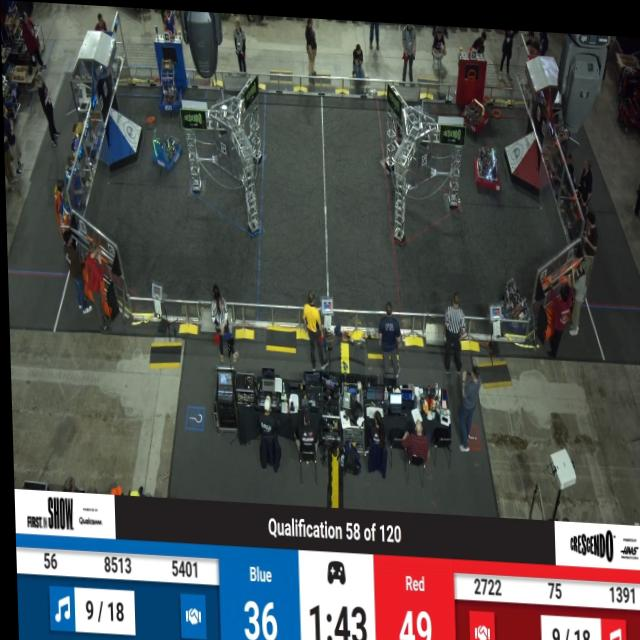Robot: (491, 264, 532, 332), (159, 53, 185, 114), (472, 138, 500, 188), (150, 130, 182, 172), (459, 86, 488, 131)
